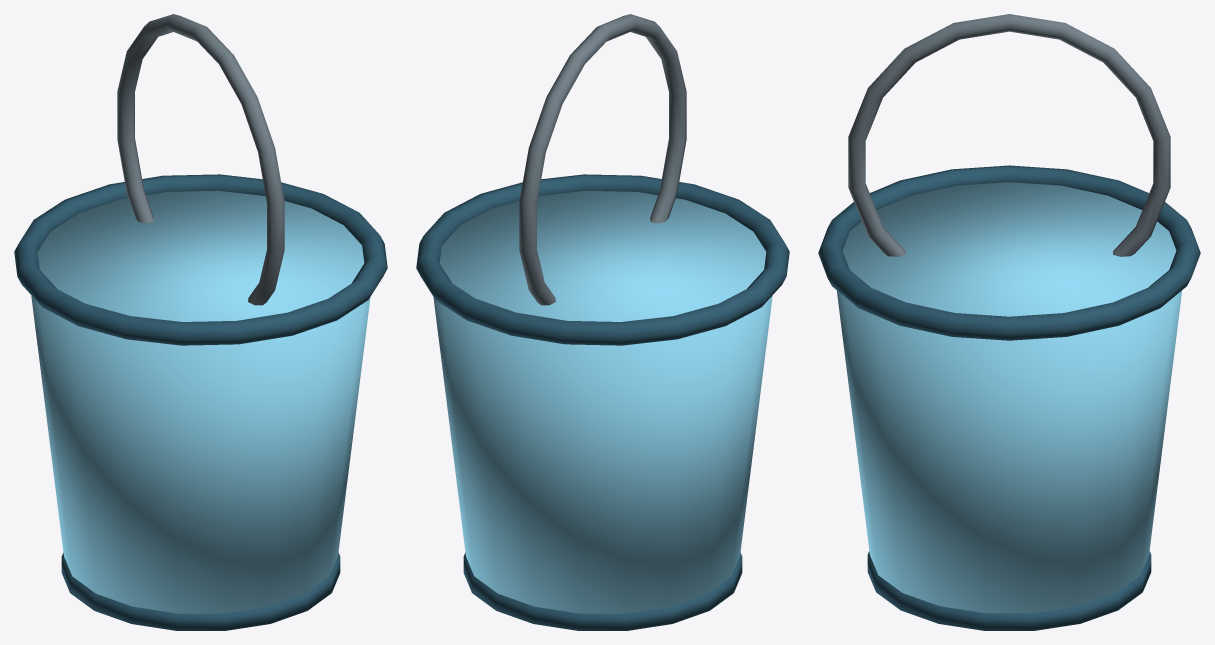
The model's file is wrong-feed-bucket.glb.
3 views of the same model, side by side, from view 1: azimuth 30°, elevation 25°; view 2: azimuth 150°, elevation 25°; view 3: azimuth 270°, elevation 25° (orthographic).
Parts seen in each view (by area): view 1: wrong-feed-bucket; view 2: wrong-feed-bucket; view 3: wrong-feed-bucket.
Part boxes in pixels (<box>): wrong-feed-bucket: <box>14,14,387,630</box>; wrong-feed-bucket: <box>416,14,789,630</box>; wrong-feed-bucket: <box>818,14,1200,630</box>.
Bounding box in the file's own units: 0.248 × 0.399 × 0.248.
